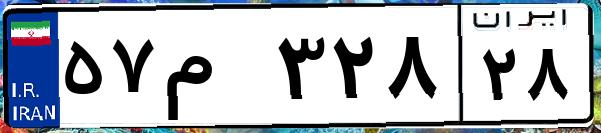2: (330, 28, 385, 110), (475, 38, 525, 113)
3: (270, 28, 330, 110)
5: (57, 26, 110, 100)
7: (110, 28, 158, 98)
8: (385, 28, 445, 110), (525, 38, 570, 115)
م: (158, 20, 270, 120)
